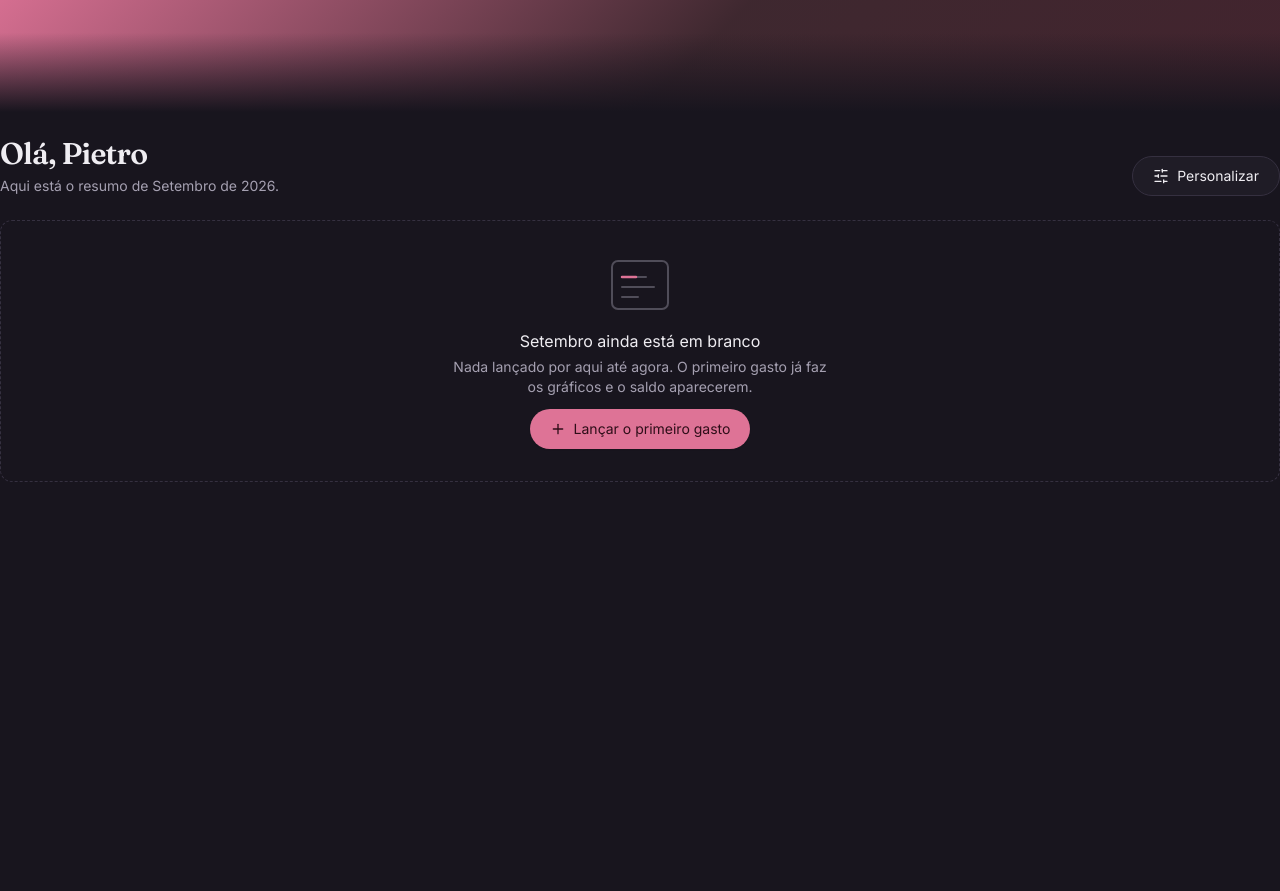
Test: painel personalizável › no modo de edição os blocos voltam, mesmo com o mês em branco
The image size is (1280, 891).
Expected: the text "Setembro ainda está em branco" is shown, [520,331,760,351]
Step 1. Click the button "Personalizar" → point(1206, 176), box [1132,156,1279,196]
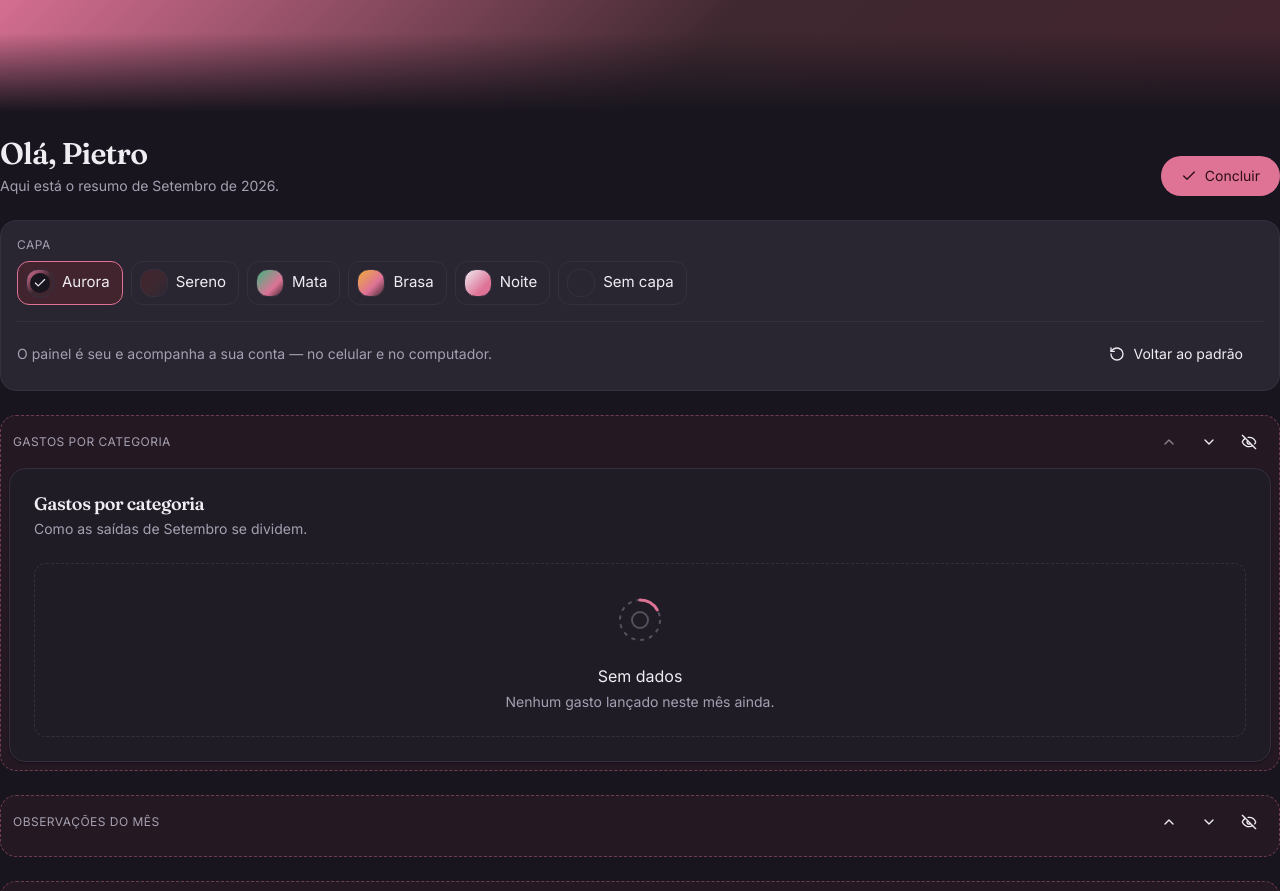
Expected: the text "ainda está em branco" is gone
